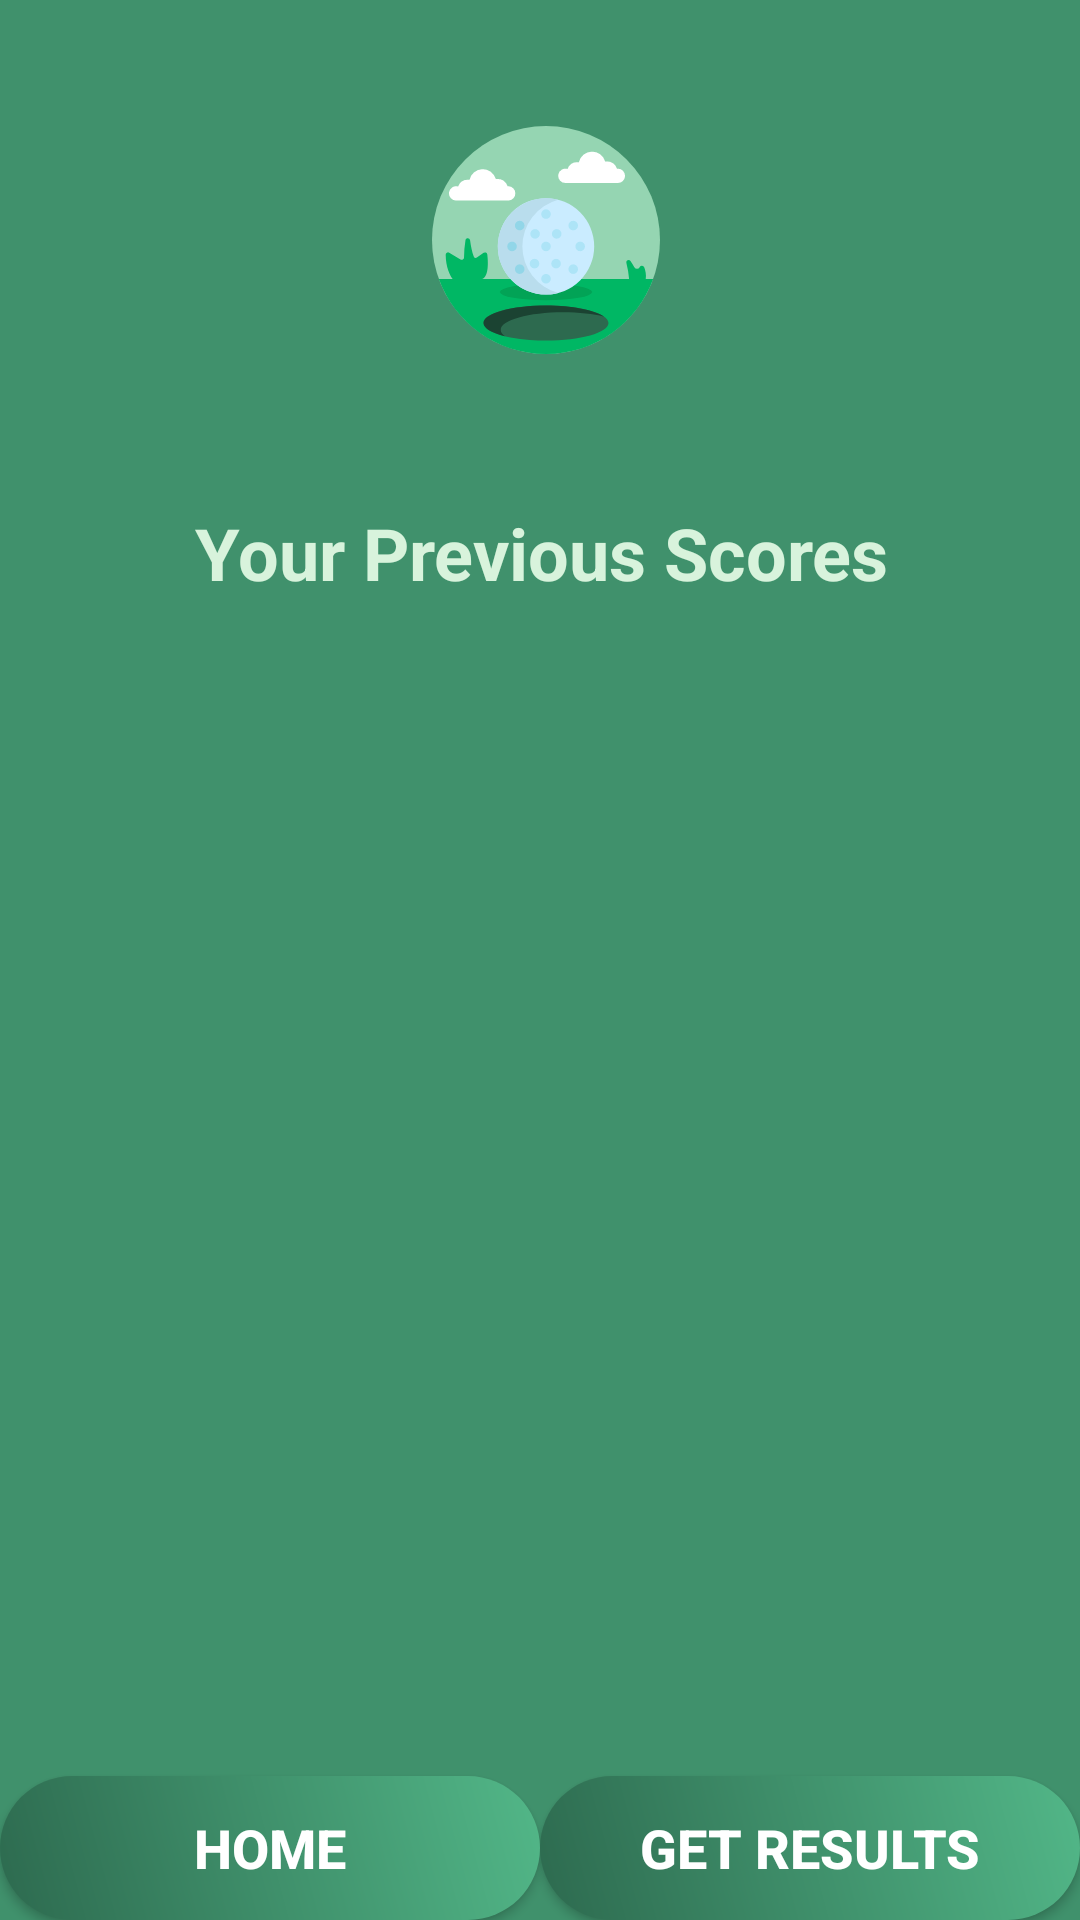

Where icons sit on this 1080px x 1920px app screen, as (x1, y1, x2, y2):
golf ball: (432, 126, 660, 354)
